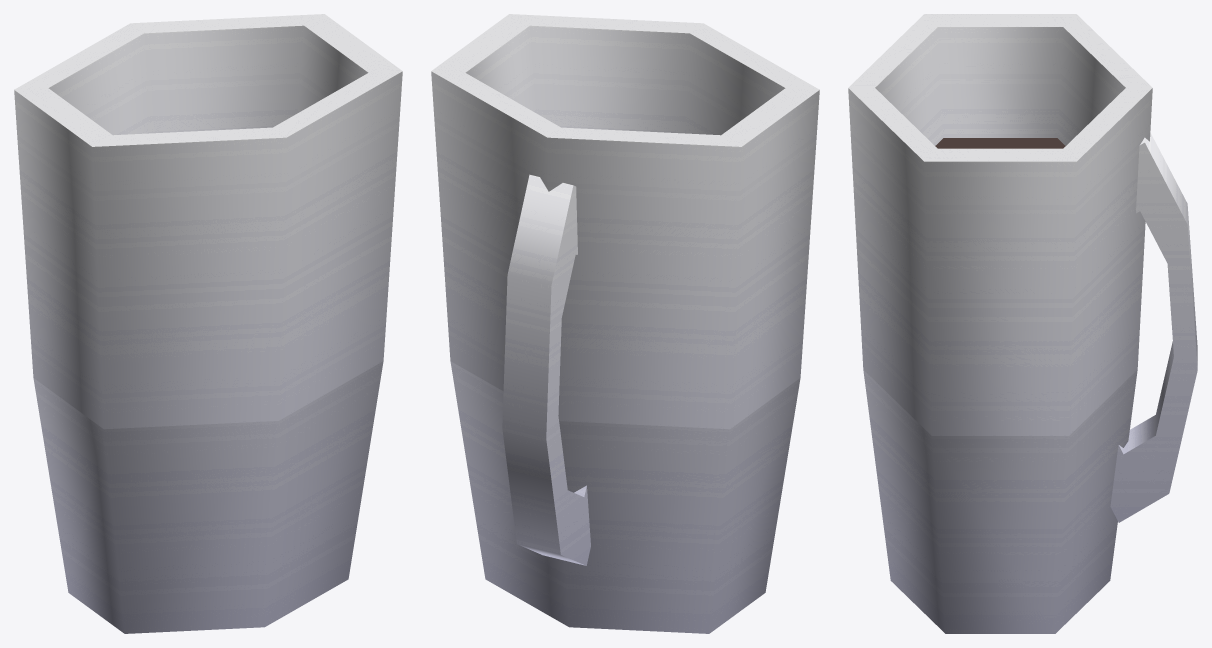
3 views of the same model, side by side, from view 1: azimuth 30°, elevation 25°; view 2: azimuth 150°, elevation 25°; view 3: azimuth 270°, elevation 25° (orthographic). The views are drawn at different scales.
Visible parts, largest first — view 1: cup-coffee; view 2: cup-coffee; view 3: cup-coffee.
Boxes of the visible parts, x1,y1,x2,y2 form: cup-coffee: [14, 14, 402, 633]; cup-coffee: [431, 14, 819, 633]; cup-coffee: [848, 14, 1197, 633].
Size of the model in its own units: 0.09 by 0.14 by 0.09.
1 material, 1 textured.
